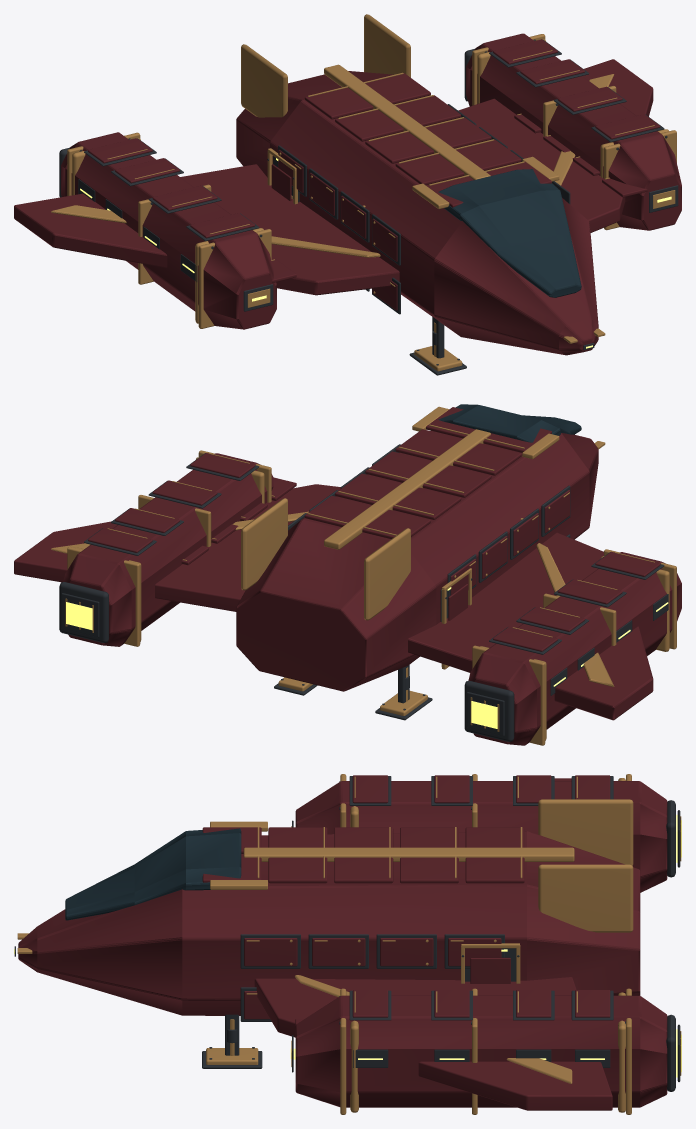
File: SM_Aurelion_Dominion_Shuttle.fbx
3 renders of one model, top to bottom at view 1: azimuth 30°, elevation 25°; view 2: azimuth 150°, elevation 25°; view 3: azimuth 270°, elevation 25°, orthographic. The views are drawn at different scales.
Parts seen in each view (by area): view 1: SM_Aurelion_Dominion_Shuttle; view 2: SM_Aurelion_Dominion_Shuttle; view 3: SM_Aurelion_Dominion_Shuttle.
Part boxes in pixels (box(x1,y1,x2,y2)): SM_Aurelion_Dominion_Shuttle: box(14, 14, 681, 375); SM_Aurelion_Dominion_Shuttle: box(14, 404, 681, 745); SM_Aurelion_Dominion_Shuttle: box(14, 774, 681, 1114).
Size of the model in its own units: 1660 by 1473 by 492.
